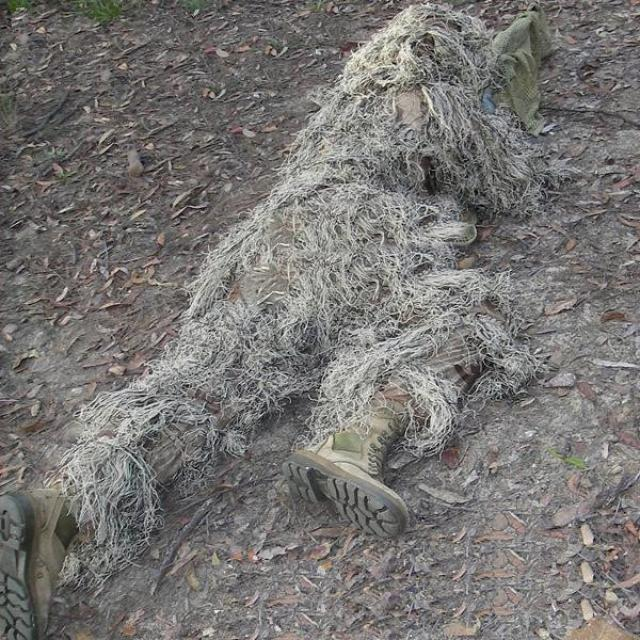human: (54, 3, 564, 563)
